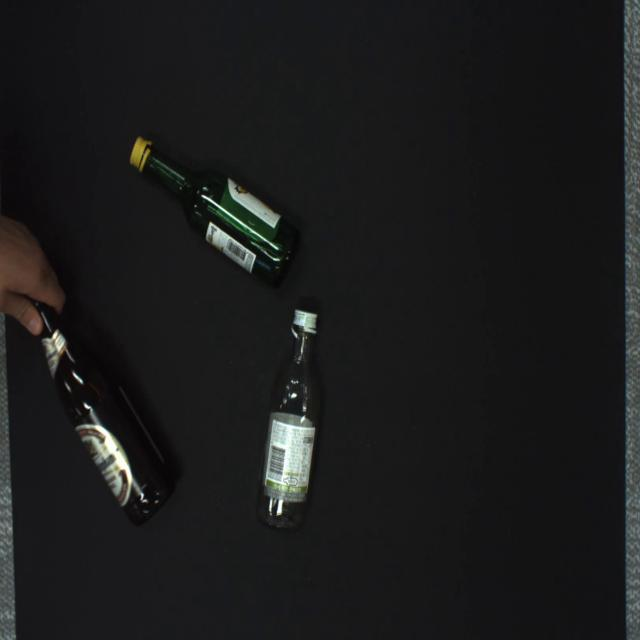beer-bottle: (26, 295, 176, 526)
soju-bottle: (127, 135, 298, 289), (255, 309, 323, 531)
